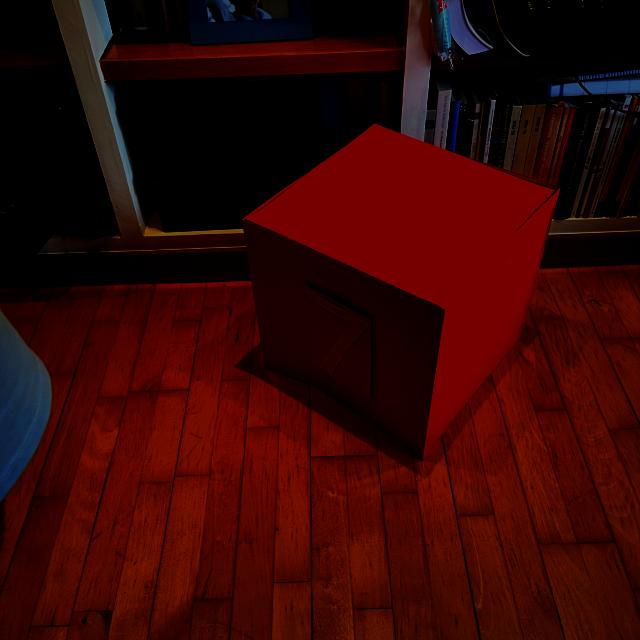box: (236, 120, 564, 462)
